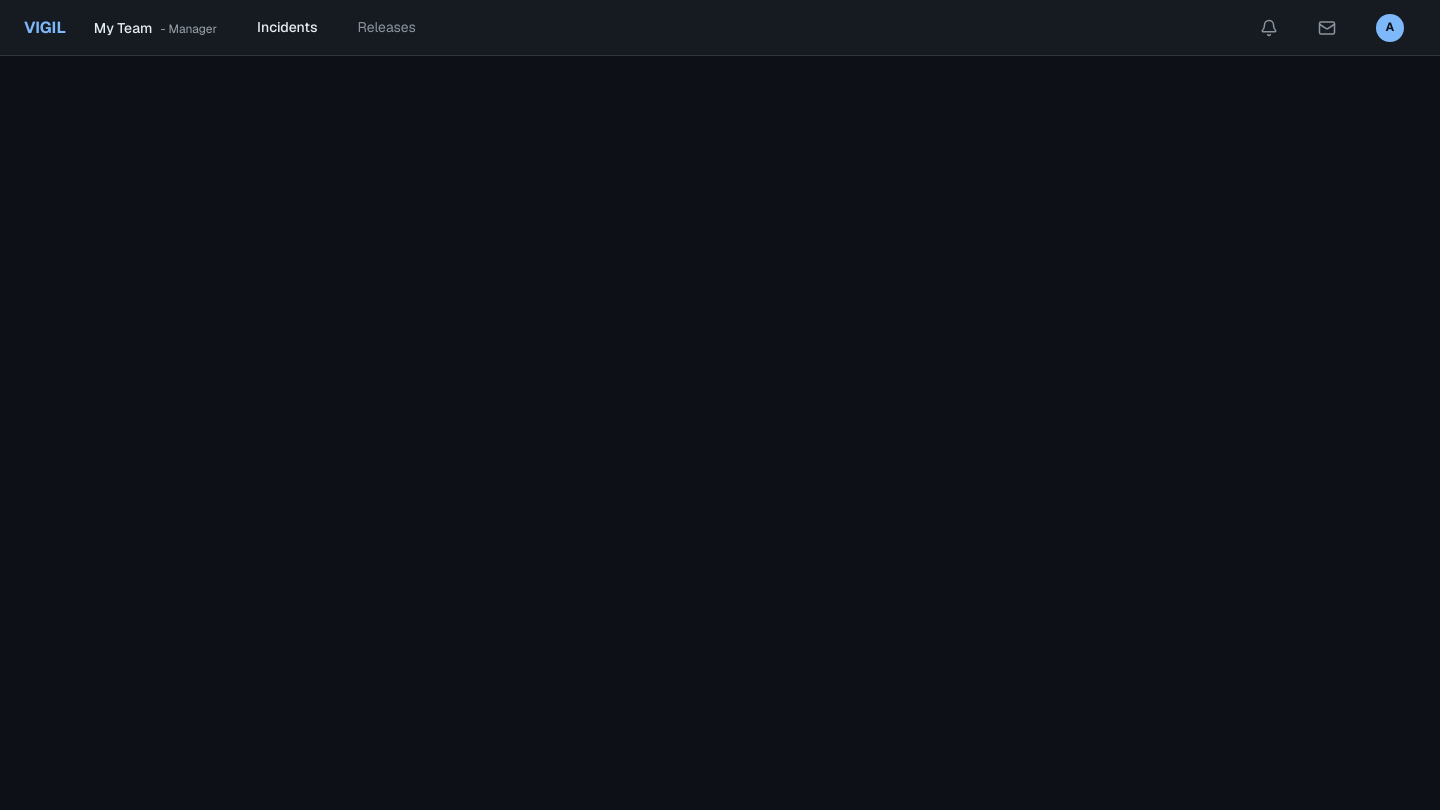
it: Navbar › opens the create team dialog from the team dropdown
Click the text "My Team": coordinates (123, 28) [94,20,152,34]
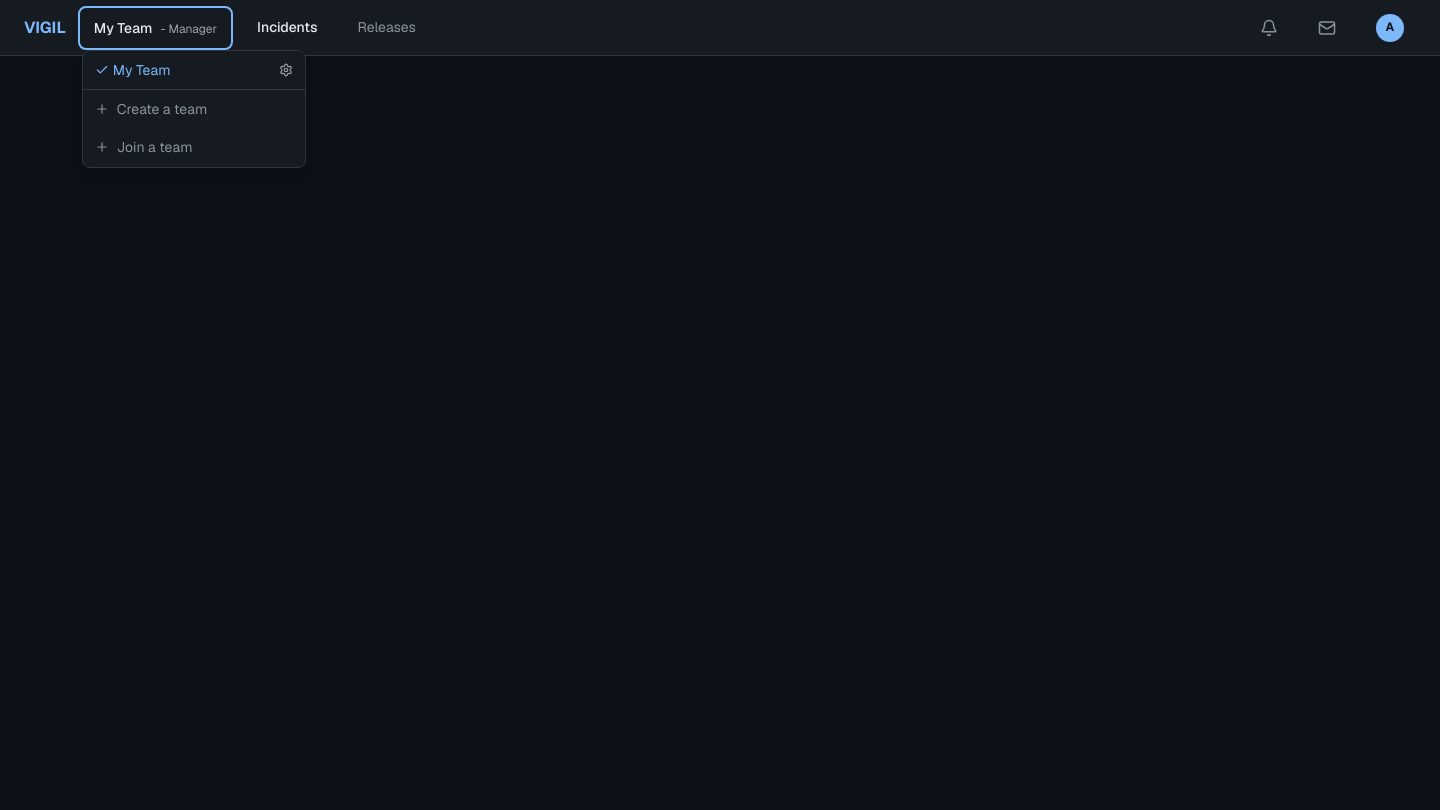
Click the button "Create a team": coordinates (194, 109) [83,90,305,128]
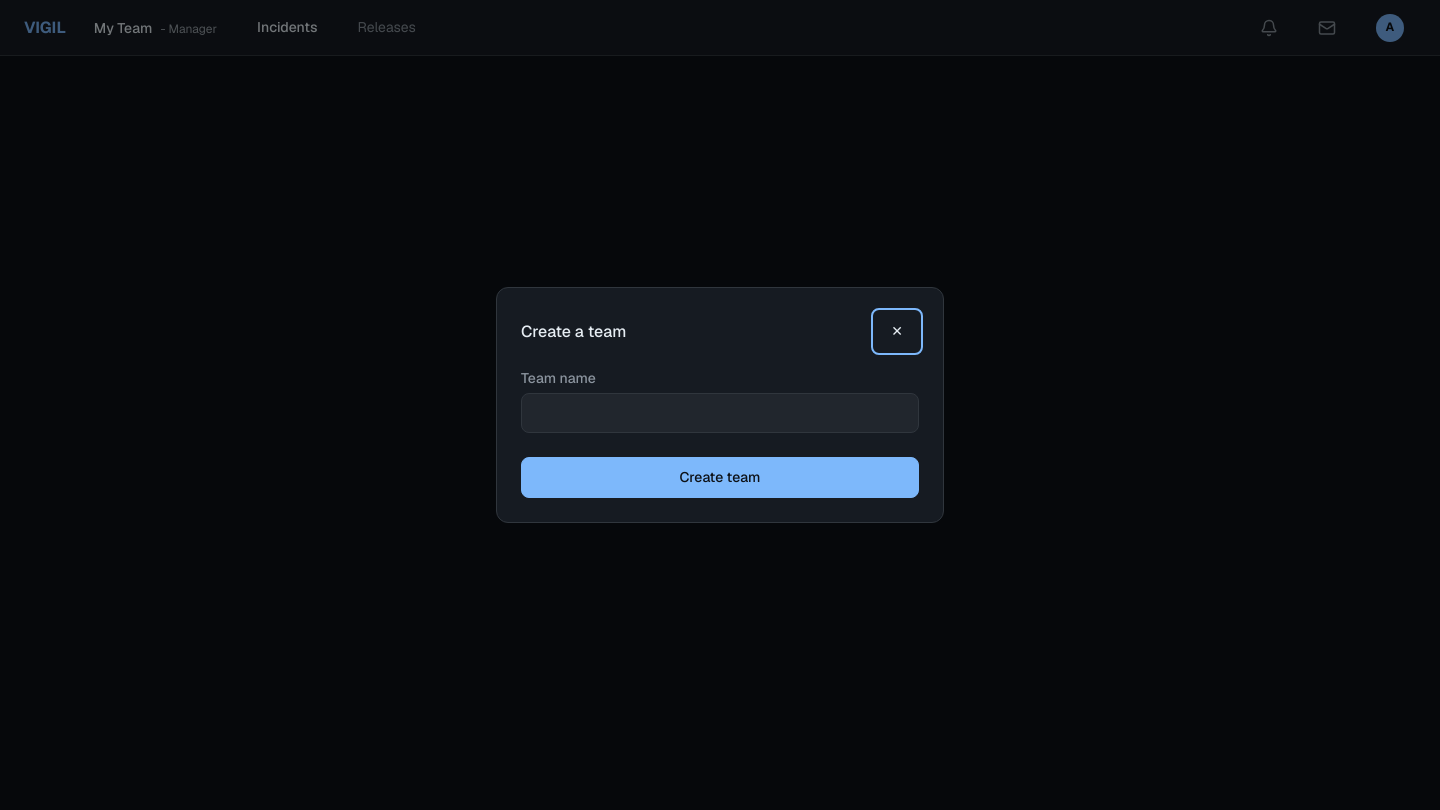
expect the dialog is shown: met, box [496,287,944,523]
expect the field labelled "Team name" is shown: met, box [521,393,919,433]
